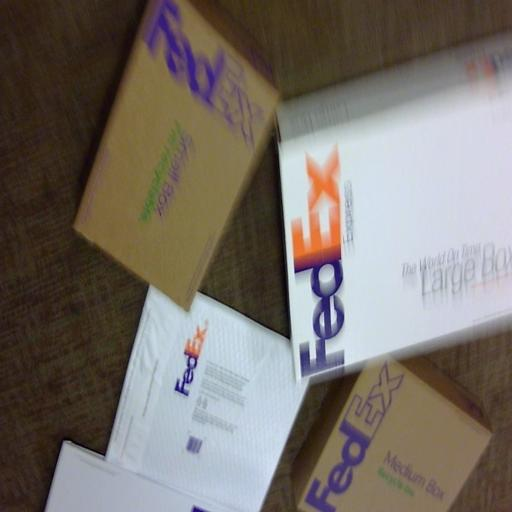Amazon: (280, 69, 512, 361), (86, 0, 258, 308), (111, 285, 314, 505), (295, 353, 482, 512)
